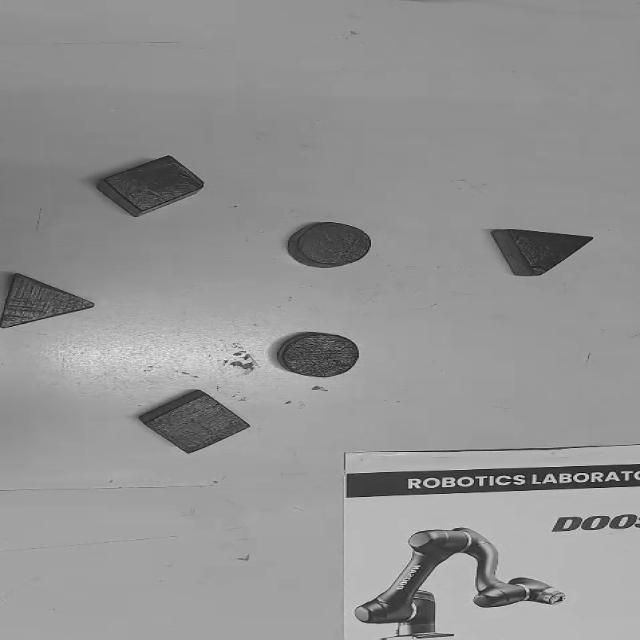bcircle: (275, 331, 362, 378)
bcube: (136, 388, 253, 454)
btriangle: (488, 226, 592, 280)
rcircle: (288, 222, 372, 268)
rcube: (98, 155, 209, 218)
rtriangle: (0, 272, 96, 327)
